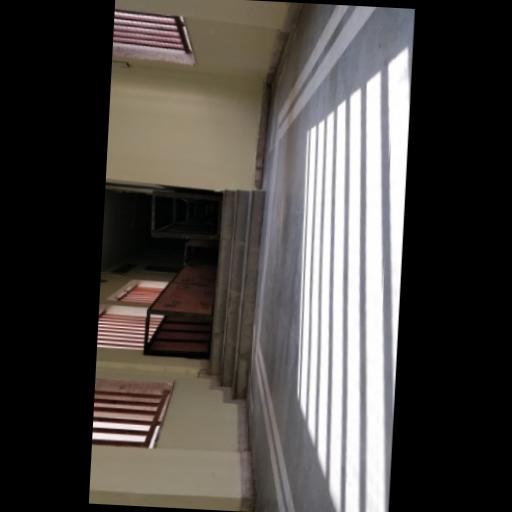stairs: (211, 190, 265, 398)
